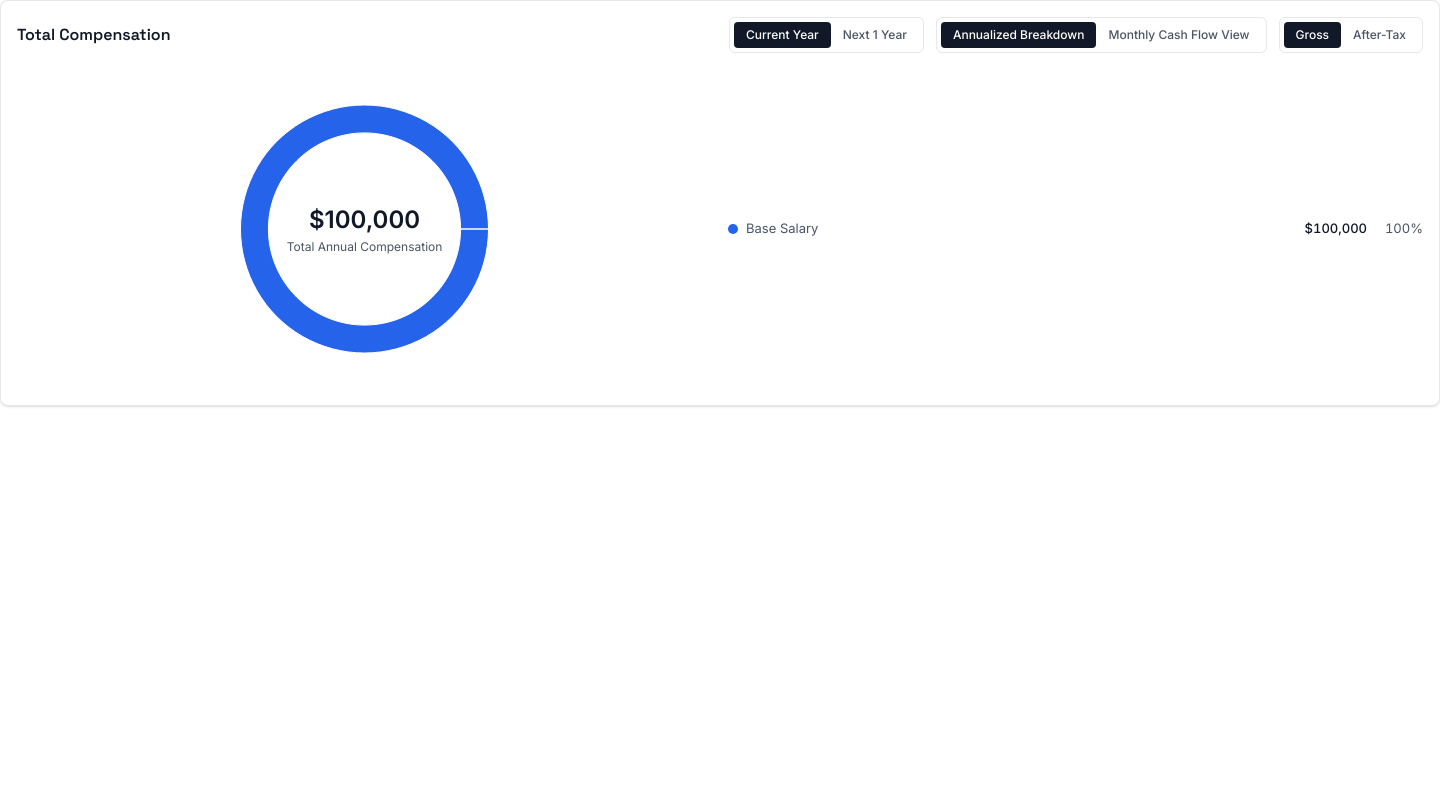
Scenario: CompHeroWidget after-tax toggle › shows a gross-only note in monthly view when After-Tax is on
Step 1. Click the button "After-Tax" → (1380,35), box [1341,22,1418,48]
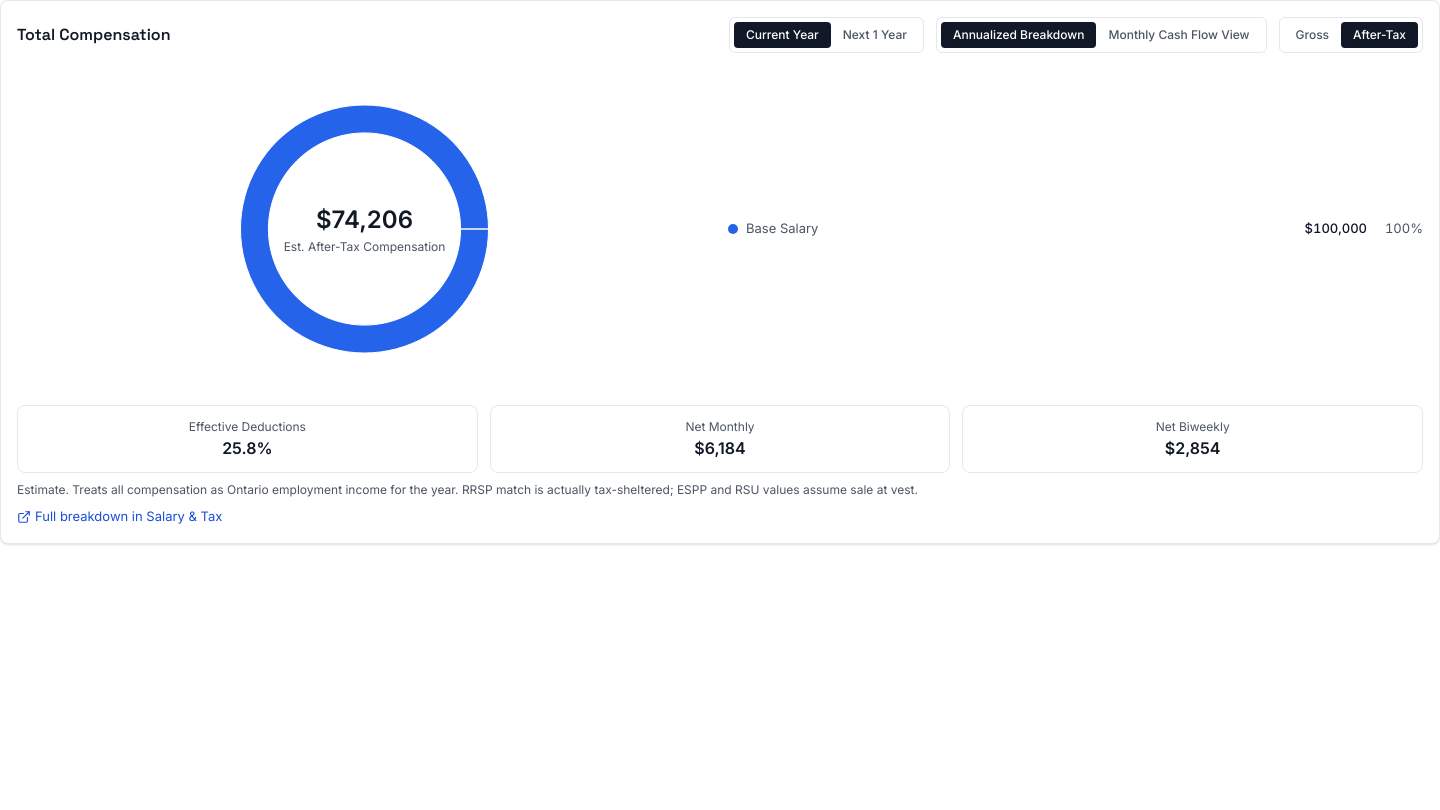
Step 2. Click the button "Monthly Cash Flow View" → (1179,35), box [1096,22,1262,48]
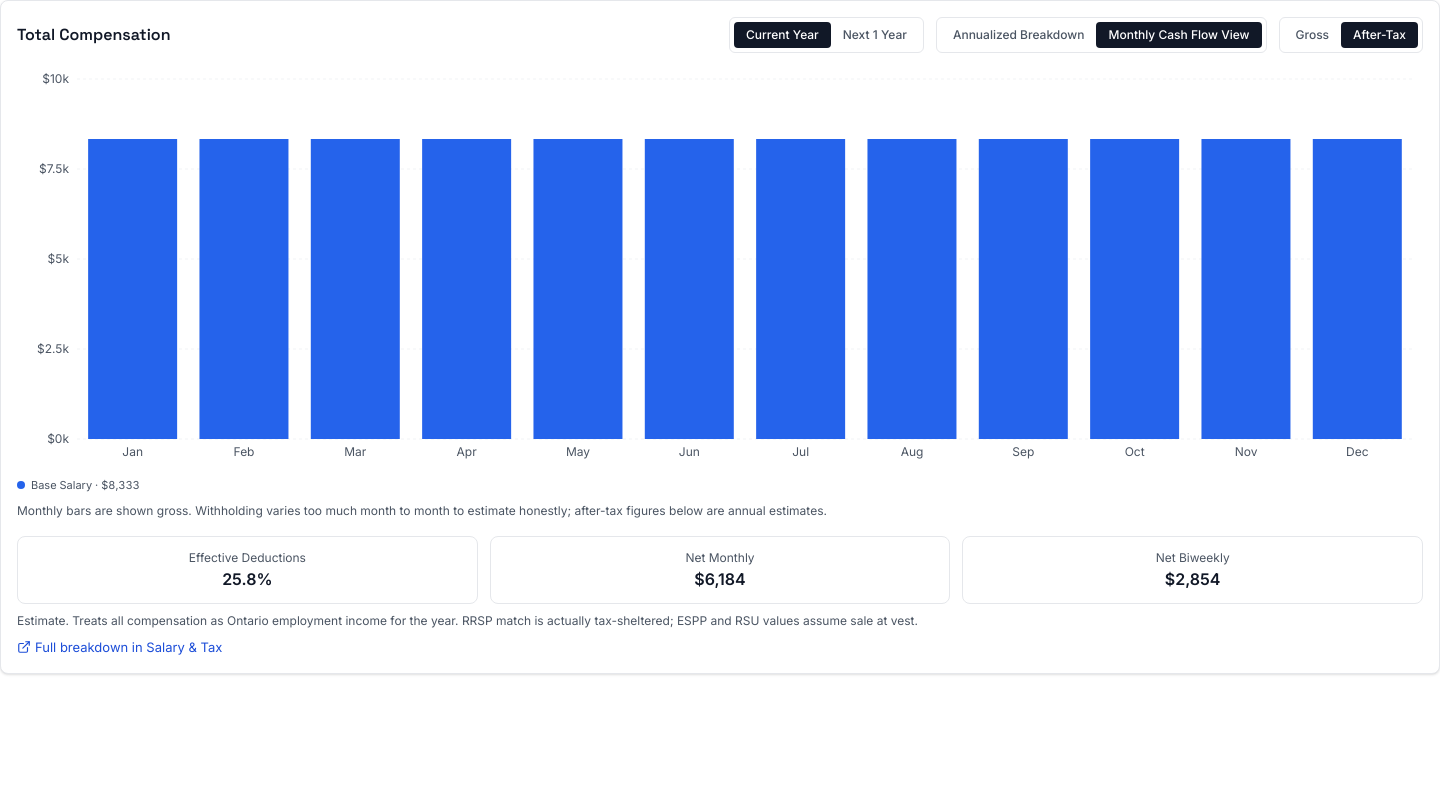
Expected: the text "Monthly bars are shown gross" is shown, [17,502,827,518]
// switching back to gross hides it
Step 3. Click the button "Gross" → (1312,35), box [1284,22,1341,48]
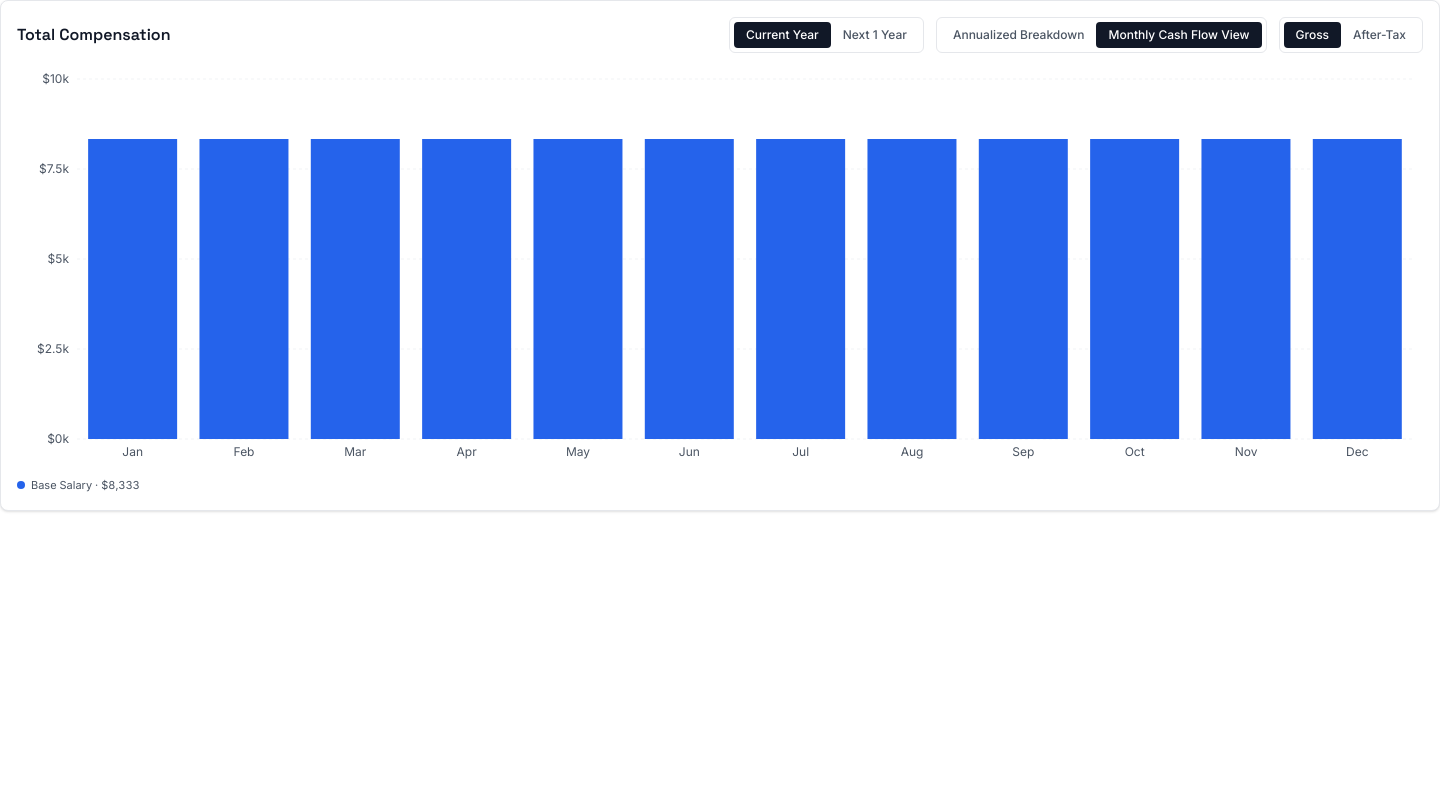
Expected: the text "Monthly bars are shown gross" is gone
